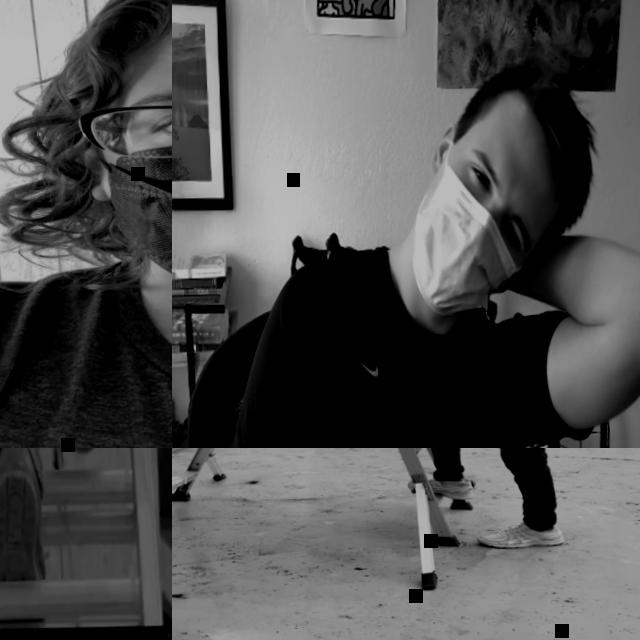Hardhat: (506, 58, 596, 230)
Mask: (408, 135, 532, 319), (91, 125, 172, 304)
NO-Safety Vest: (287, 241, 534, 448), (0, 260, 172, 448)
Person: (204, 45, 640, 448), (0, 0, 172, 448), (0, 448, 158, 627), (337, 448, 586, 552)
